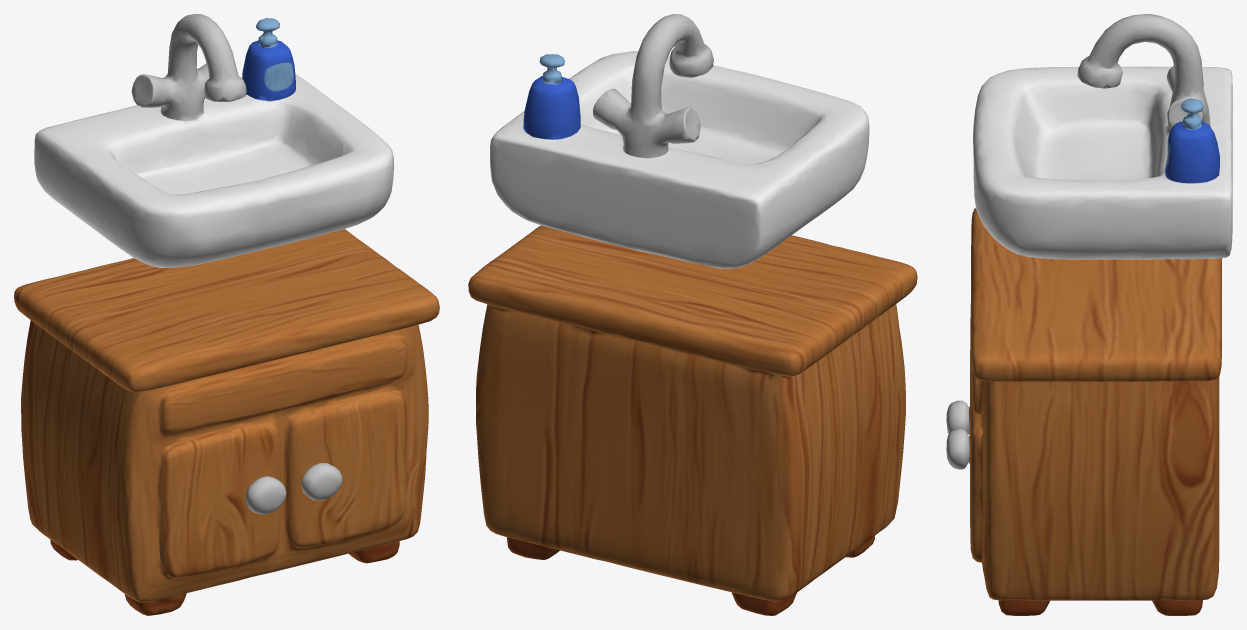
Rendered from spuele.glb.
The picture shows the model from 3 angles, left to right: view 1: azimuth 30°, elevation 25°; view 2: azimuth 150°, elevation 25°; view 3: azimuth 270°, elevation 25°; orthographic projection. The views are drawn at different scales.
Parts seen in each view (by area): view 1: world; view 2: world; view 3: world.
Part boxes in pixels (x1,y1,x2,y2): world: (14,14,439,615); world: (468,14,917,615); world: (946,14,1232,615).
Size of the model in its own units: 0.6348 by 1 by 0.4831.
Materials: 1 (1 with a texture image).
